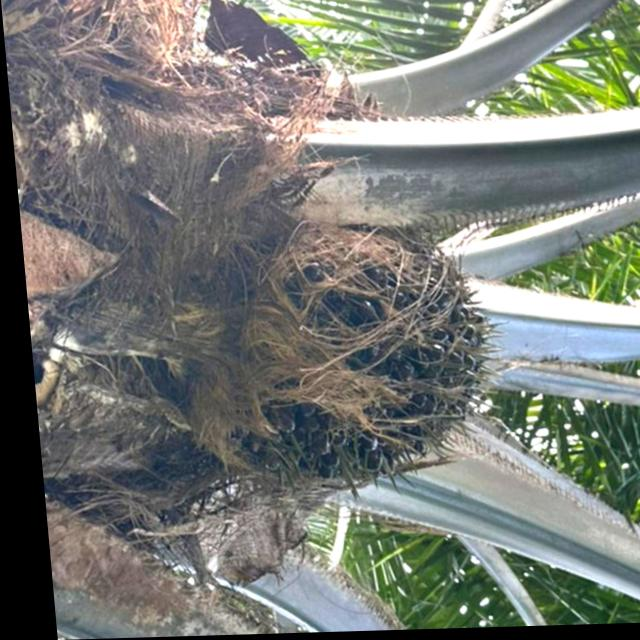almost: (205, 213, 522, 514)
